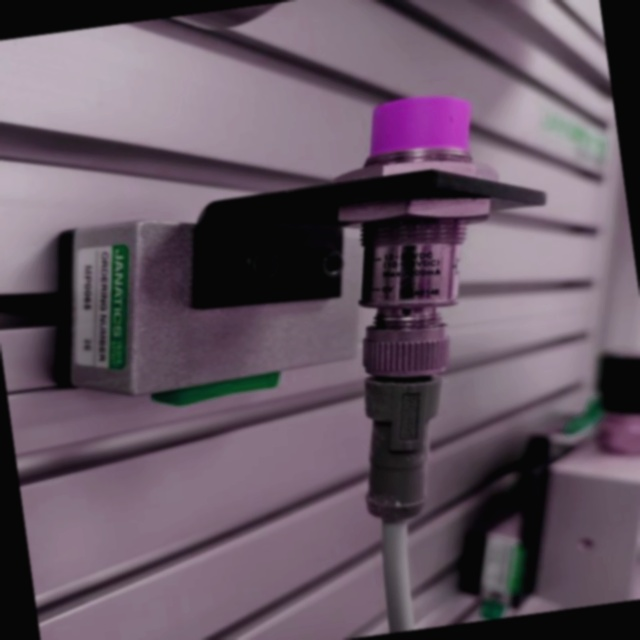inductive sensor: (35, 68, 592, 565)
